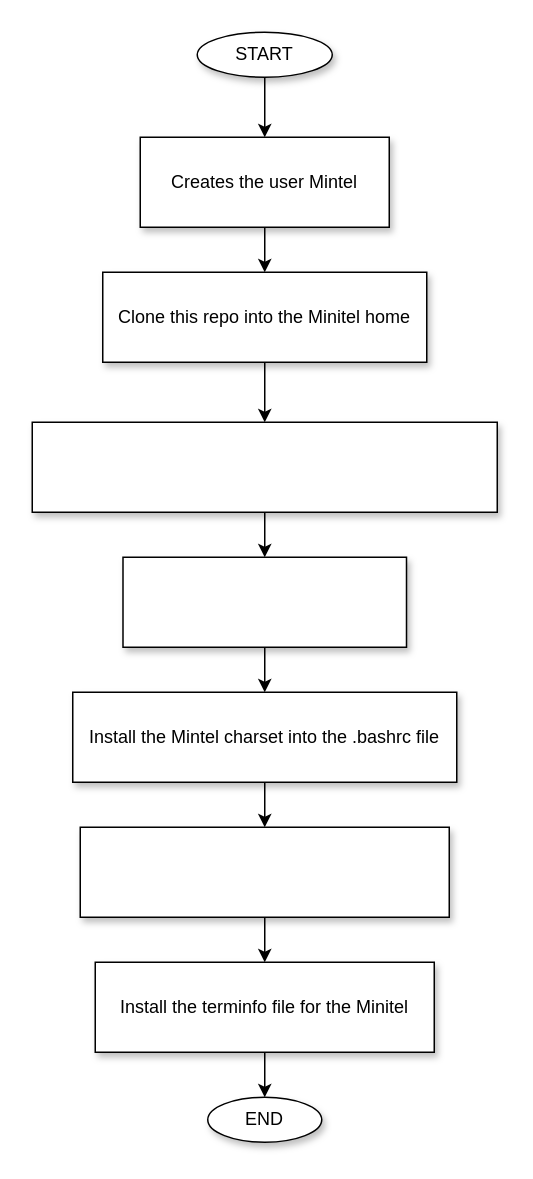
Some shapes in this 533 by 1179 pixel diagram are drawn without their labels. Each missing label, with the centre of its shape:
"Clone, install and remove the PYMintel Library" belongs at [265,469].
"Install the autoStartup into the .bashrc file" belongs at [265,874].
"Install the pyserial library" belongs at [266,604].
